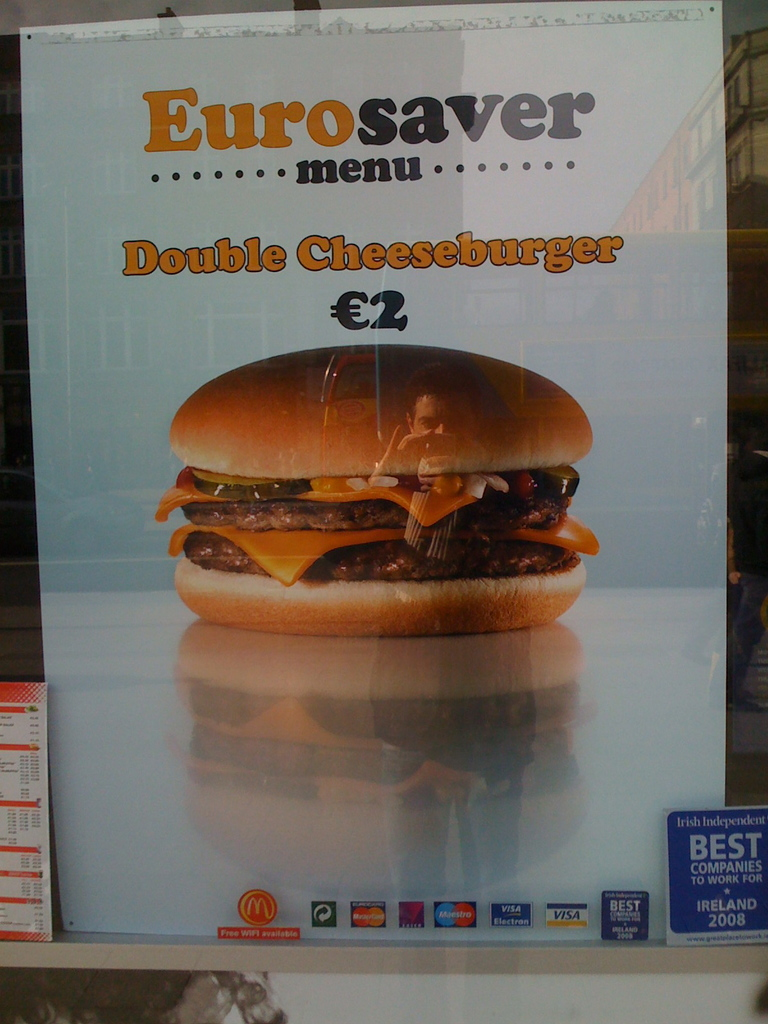Hamburger: (152, 341, 603, 638)
